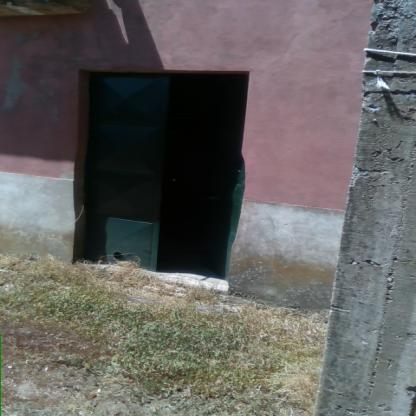open: (67, 60, 258, 298)
